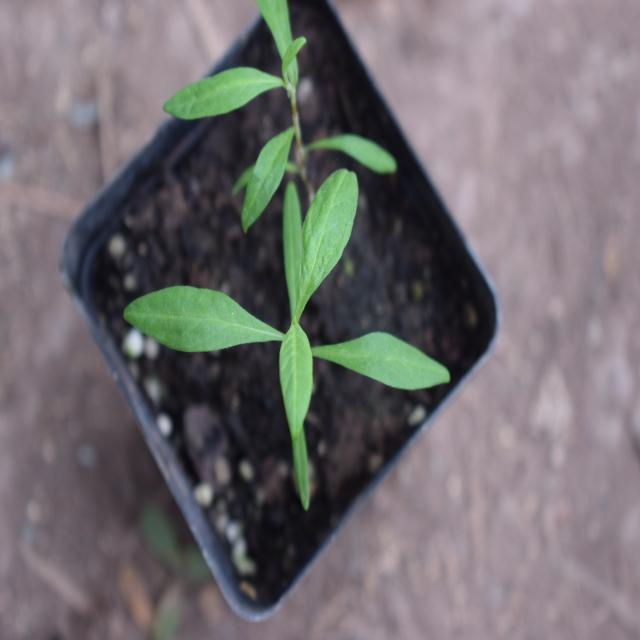white_smart_weed: (126, 153, 397, 468), (170, 9, 384, 218)
